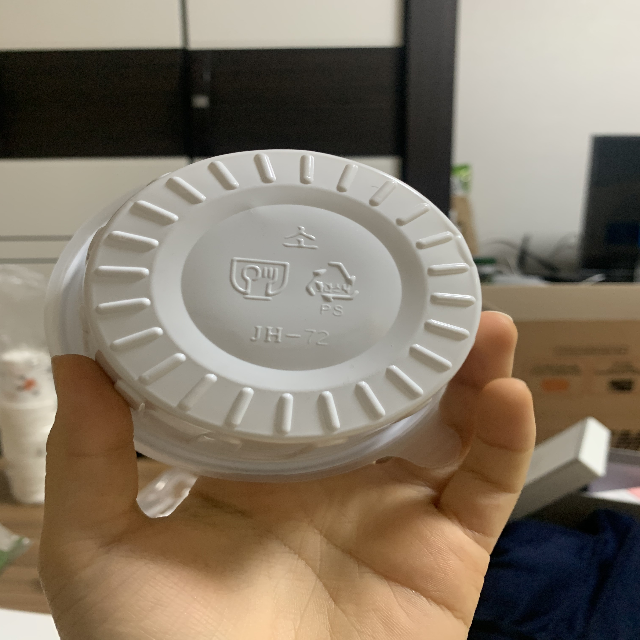ps: (306, 256, 364, 320)
